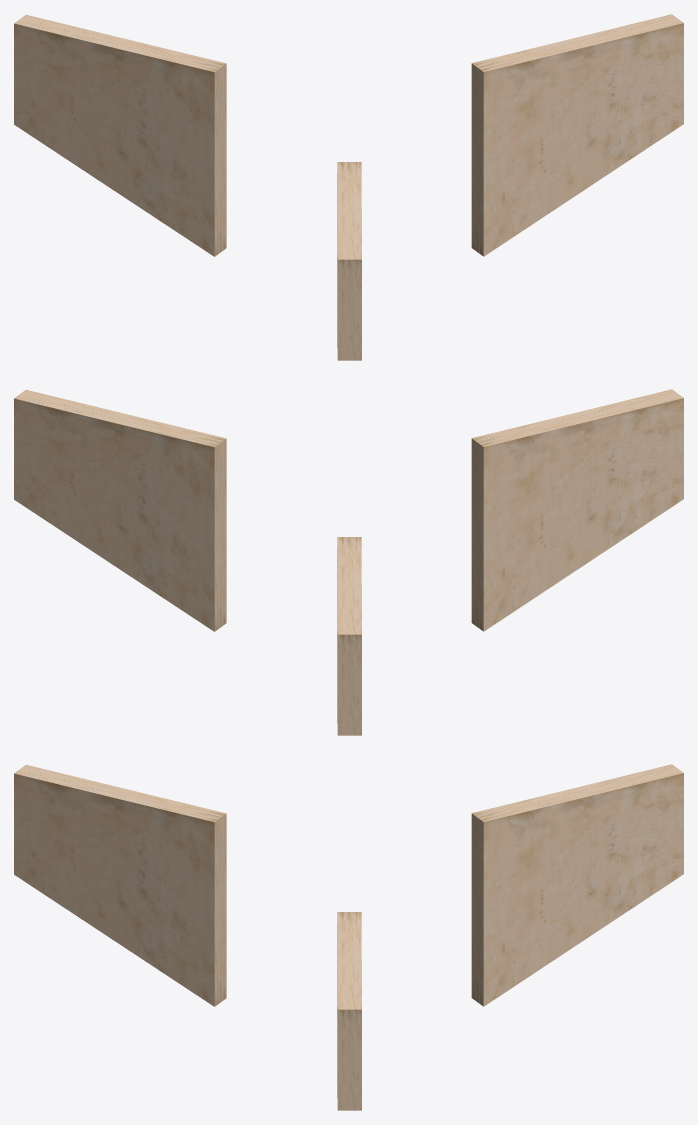
The model's file is ins_all_min_moisture_s01_u0_prop_l2.fbx.
3 renders of one model, top to bottom at view 1: azimuth 30°, elevation 25°; view 2: azimuth 150°, elevation 25°; view 3: azimuth 270°, elevation 25°, orthographic.
Parts seen in each view (by area): view 1: mesh_node; view 2: mesh_node; view 3: mesh_node.
Part boxes in pixels (<box>): mesh_node: <box>14,14,683,360</box>; mesh_node: <box>14,389,683,735</box>; mesh_node: <box>14,764,683,1110</box>.
Bounding box in the file's own units: 0.8022 × 0.2815 × 0.9254.
